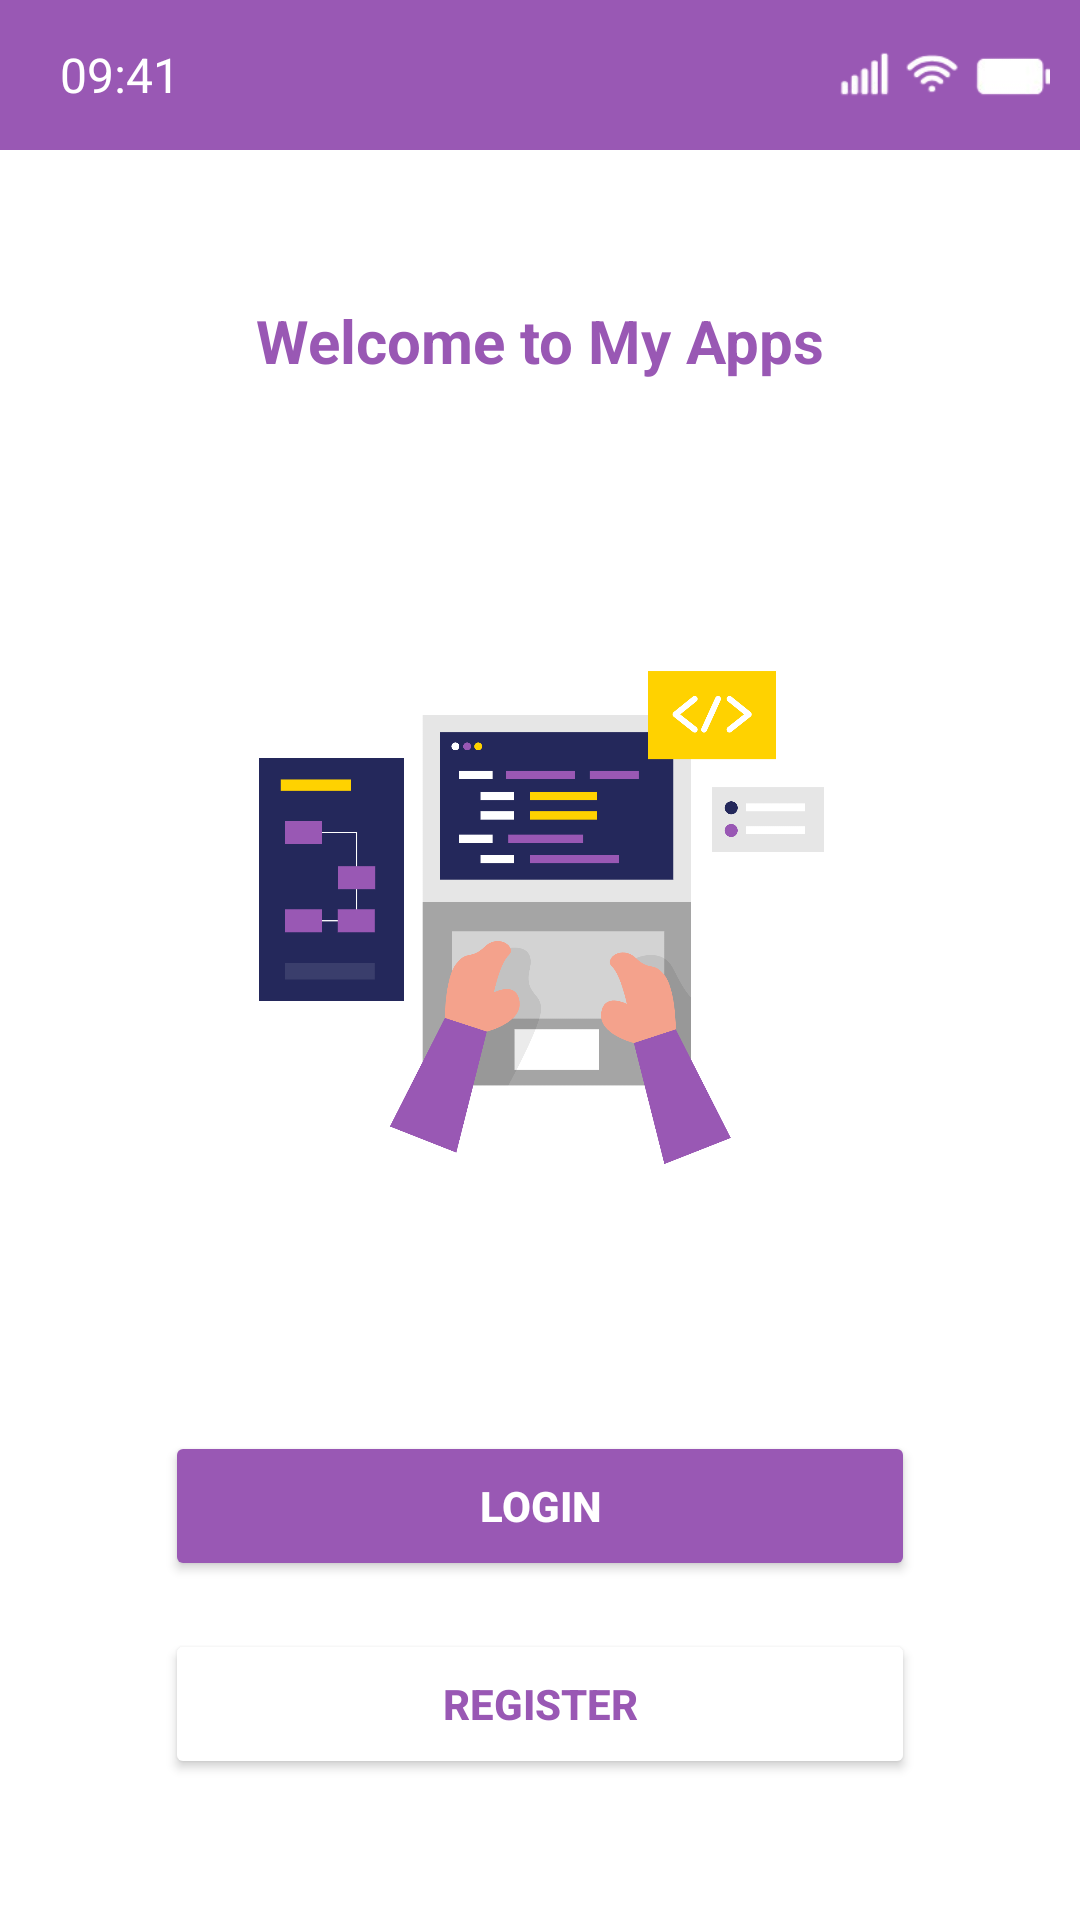

Screen size 1080px x 1920px. Icon name, then its center in pixels as [x,y]:
bar: [945,74]
